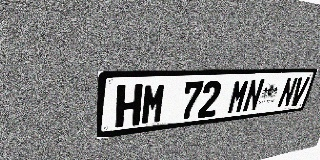2: (197, 80, 223, 118)
7: (178, 81, 204, 120)
H: (115, 84, 143, 128)
M: (140, 83, 167, 125), (226, 79, 250, 114)
N: (242, 79, 265, 112), (277, 77, 299, 108)
V: (289, 77, 310, 107)
